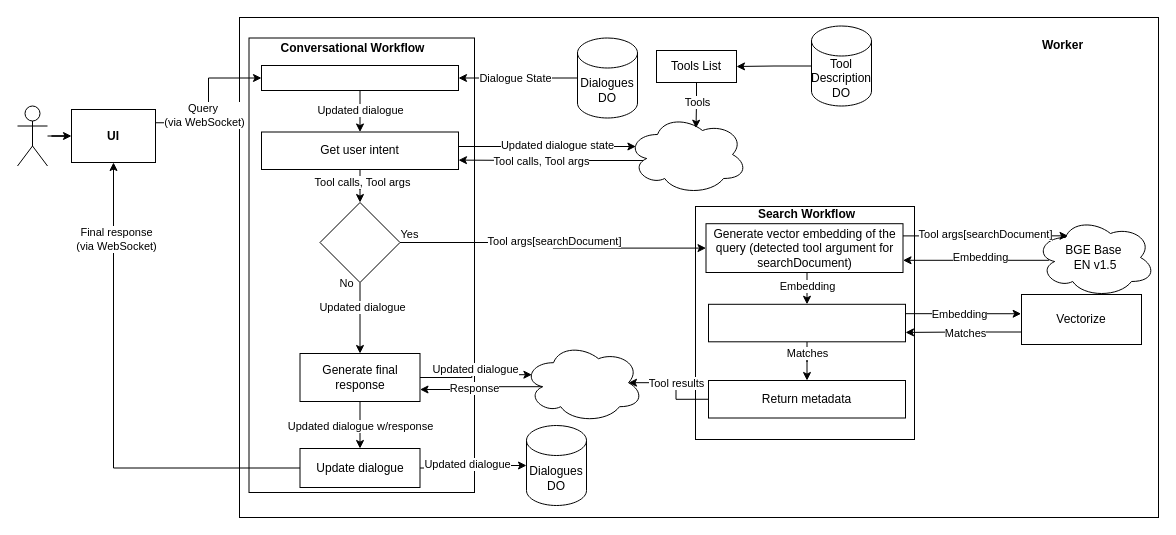
Some shapes in this 1176 by 535 pixel diagram are drawn without their labels. Each missing label, with the centre of its shape:
"Detected searchDocument tool?" goes at point 359,242.
"Get existing dialogue state" goes at point 359,77.
"Llama 3.3" goes at point 687,154.
"Llama 4" goes at point 583,382.
"Search top 3 similar vectors" goes at point 807,322.
"User" goes at point 32,135.
